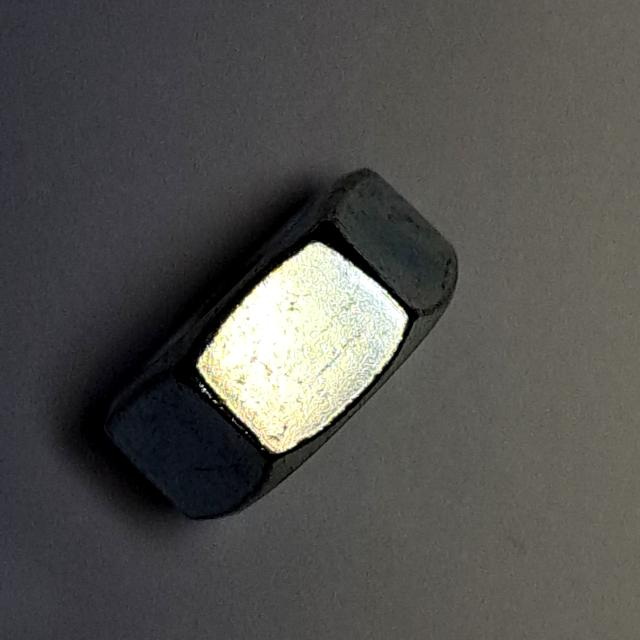Side_Excellent: (83, 153, 480, 542)
